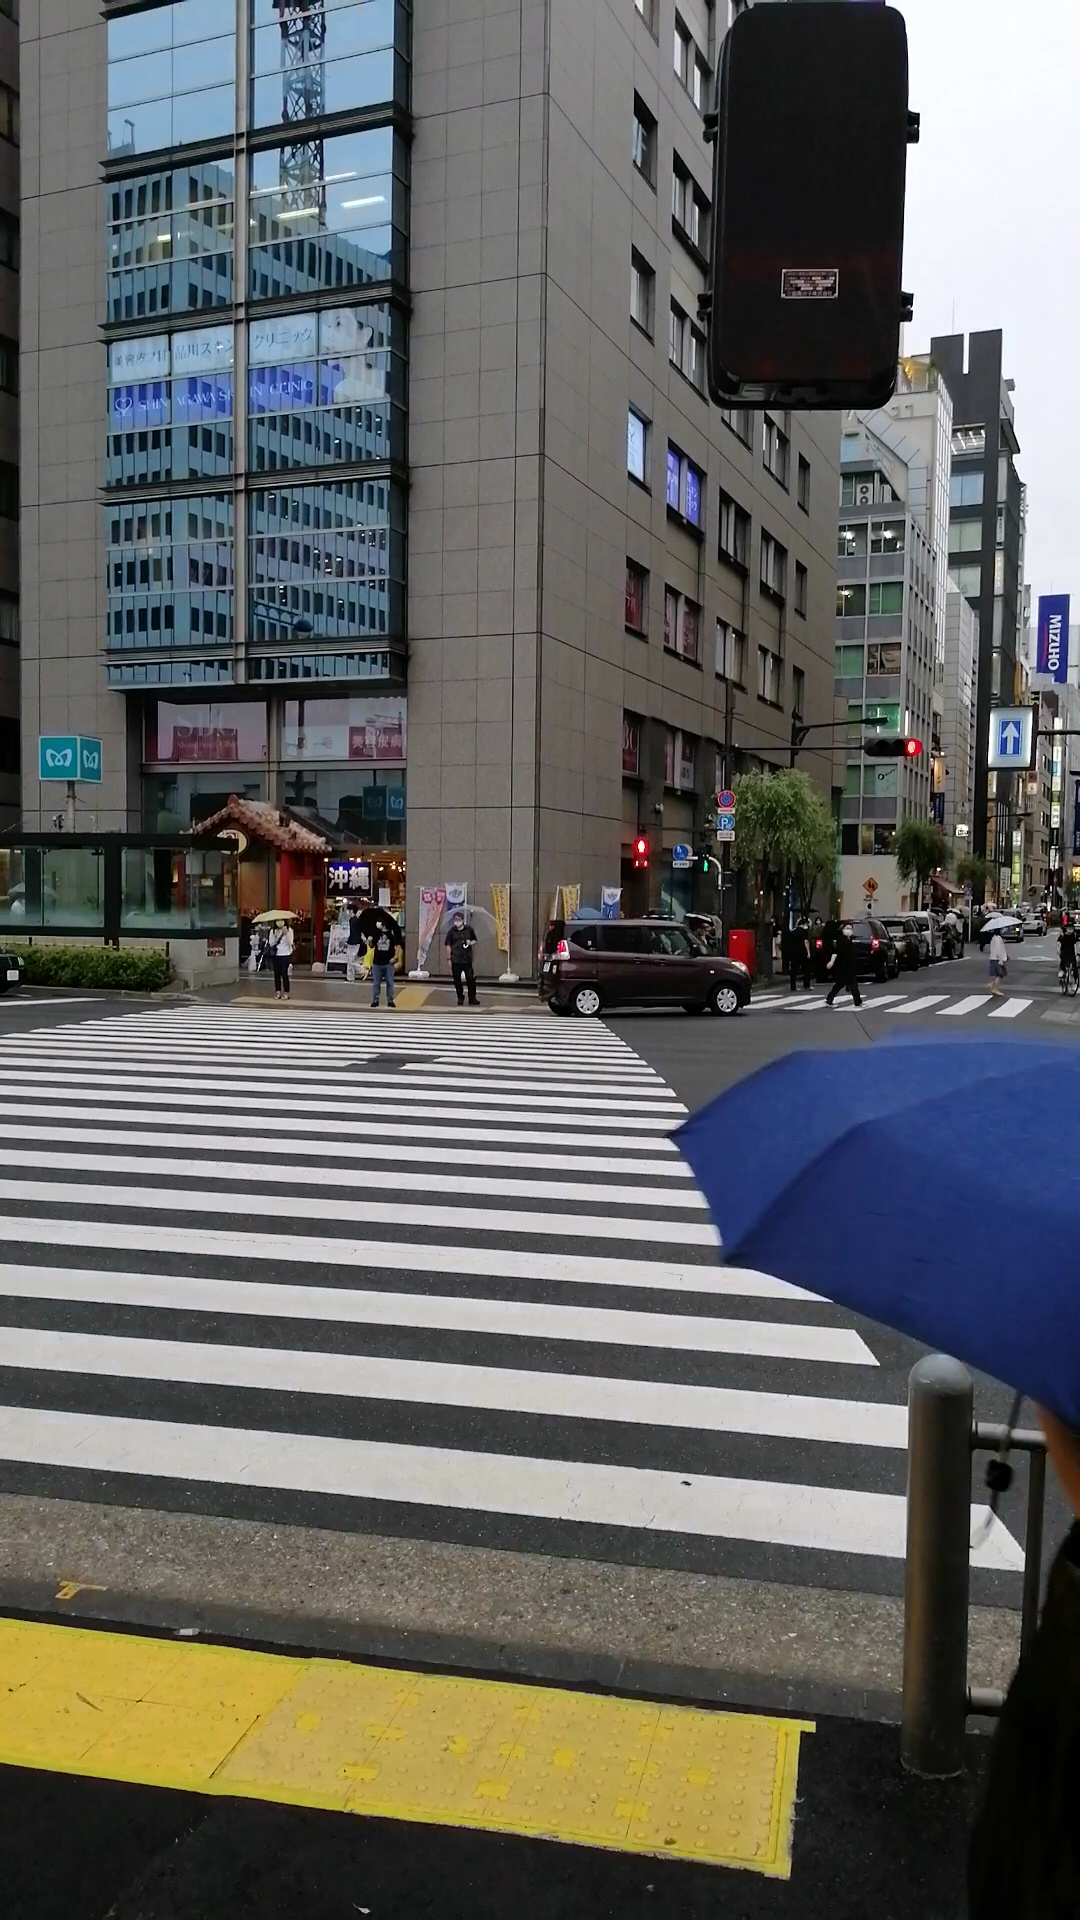red: (632, 837, 650, 872)
